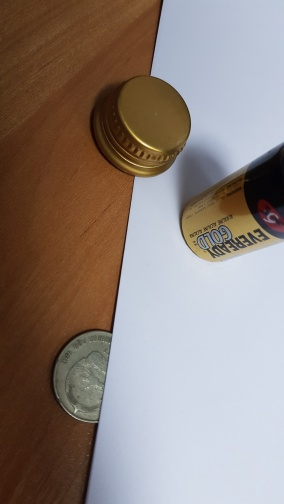coin: (51, 328, 114, 425)
